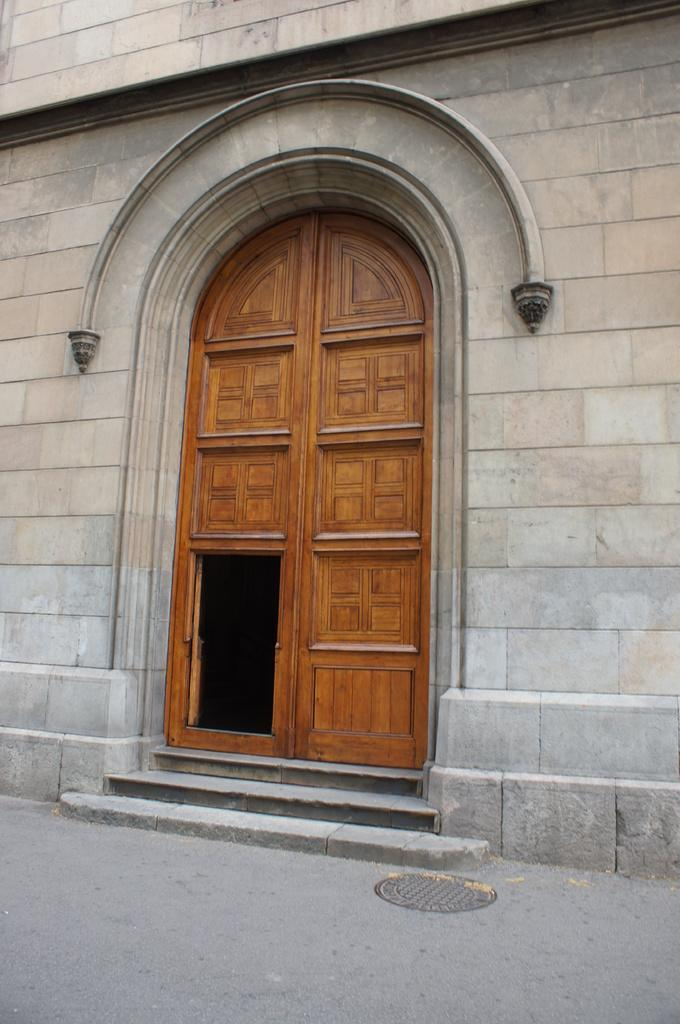door: (306, 269, 420, 764), (189, 259, 303, 737)
handle: (274, 640, 284, 652)
